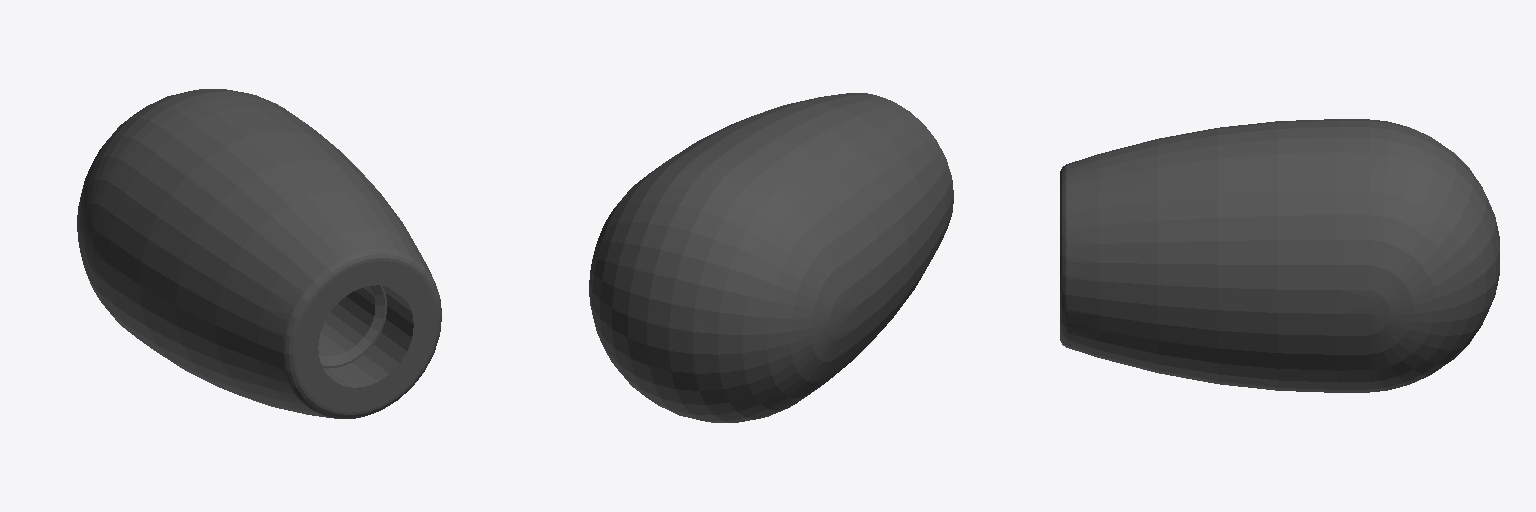
3 views of the same model, side by side, from view 1: azimuth 30°, elevation 25°; view 2: azimuth 150°, elevation 25°; view 3: azimuth 270°, elevation 25° (orthographic).
Visible parts, largest first — view 1: gn_719-26-m10_1; view 2: gn_719-26-m10_1; view 3: gn_719-26-m10_1.
Part boxes in pixels (x1,y1,x2,y2): gn_719-26-m10_1: (77, 89, 441, 418); gn_719-26-m10_1: (589, 93, 953, 422); gn_719-26-m10_1: (1060, 119, 1499, 392).
Size of the model in its own units: 26.09 by 25.98 by 41.89.